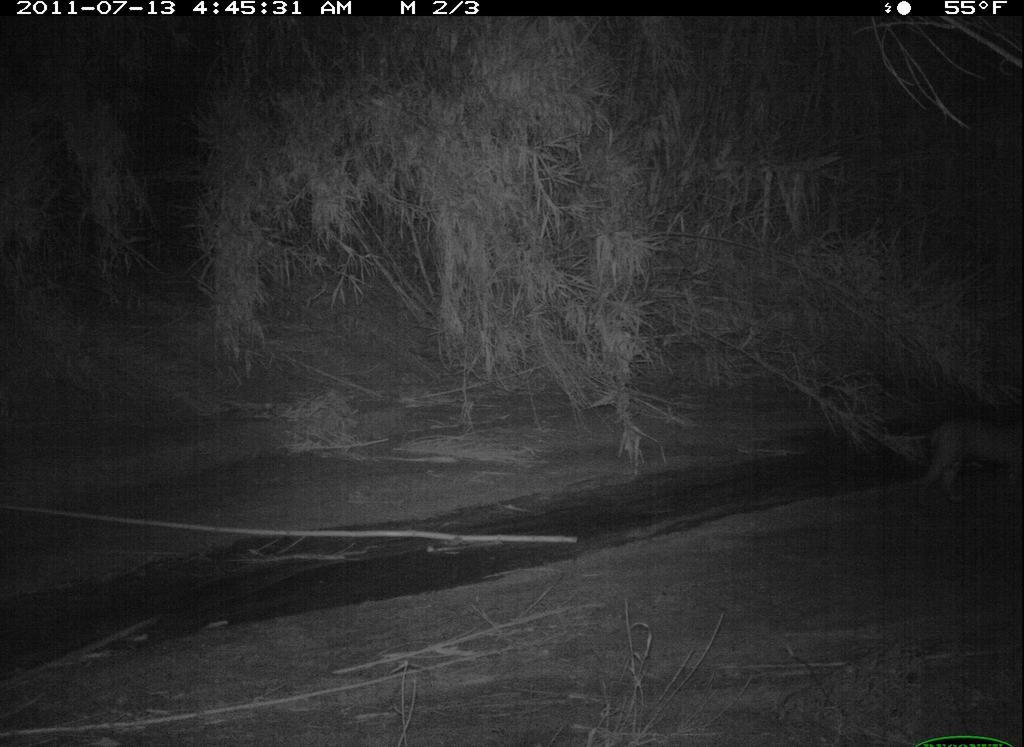bobcat: (891, 399, 1023, 515)
